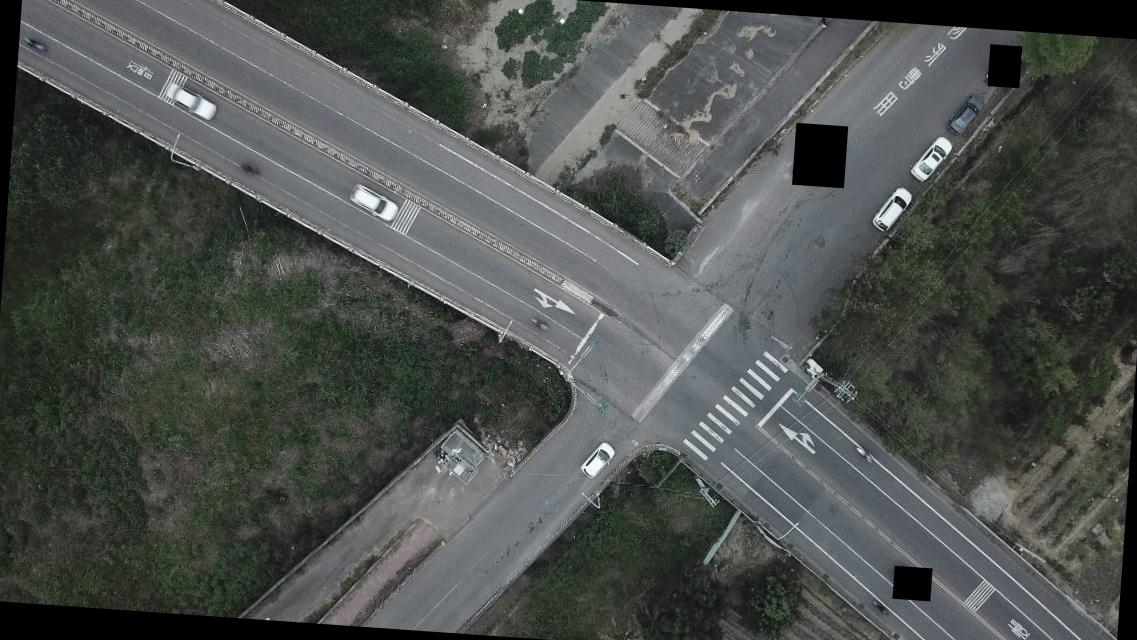vehicle: (162, 82, 221, 121), (347, 182, 400, 224), (870, 186, 913, 235), (908, 136, 951, 182), (946, 94, 984, 138), (579, 442, 614, 478)
